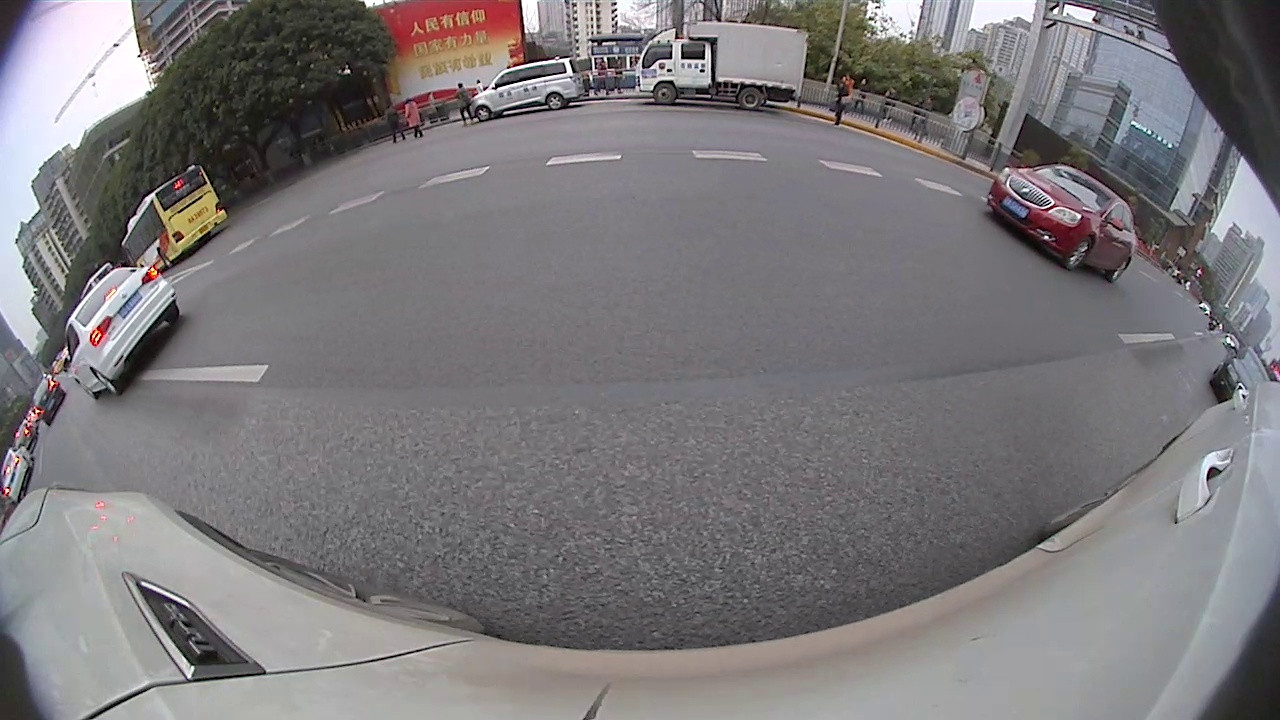bus: (118, 164, 229, 273)
car: (988, 162, 1139, 283), (61, 264, 183, 405), (469, 56, 581, 122), (1210, 347, 1270, 404), (1, 444, 33, 501), (29, 374, 63, 427)
front: (1065, 237, 1094, 272), (654, 83, 675, 105), (474, 105, 492, 121)
person: (456, 82, 468, 126), (406, 98, 417, 137), (387, 103, 397, 143)
rear: (92, 367, 121, 396), (71, 379, 101, 400), (1108, 258, 1132, 284), (738, 88, 762, 112), (545, 93, 564, 111), (157, 251, 173, 267)
truck: (638, 19, 807, 110)
